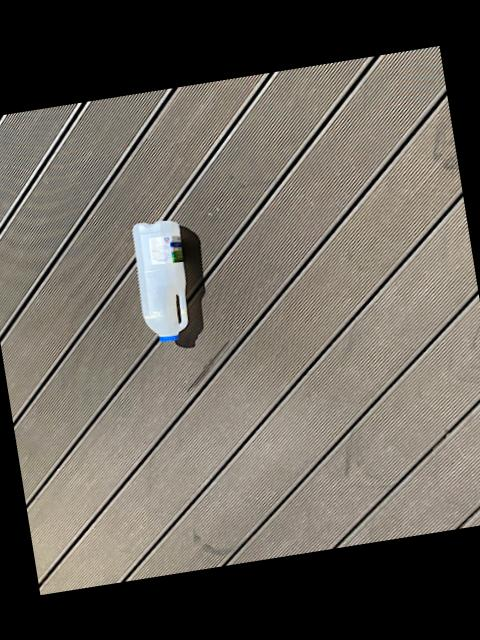plastic: (133, 222, 189, 342)
